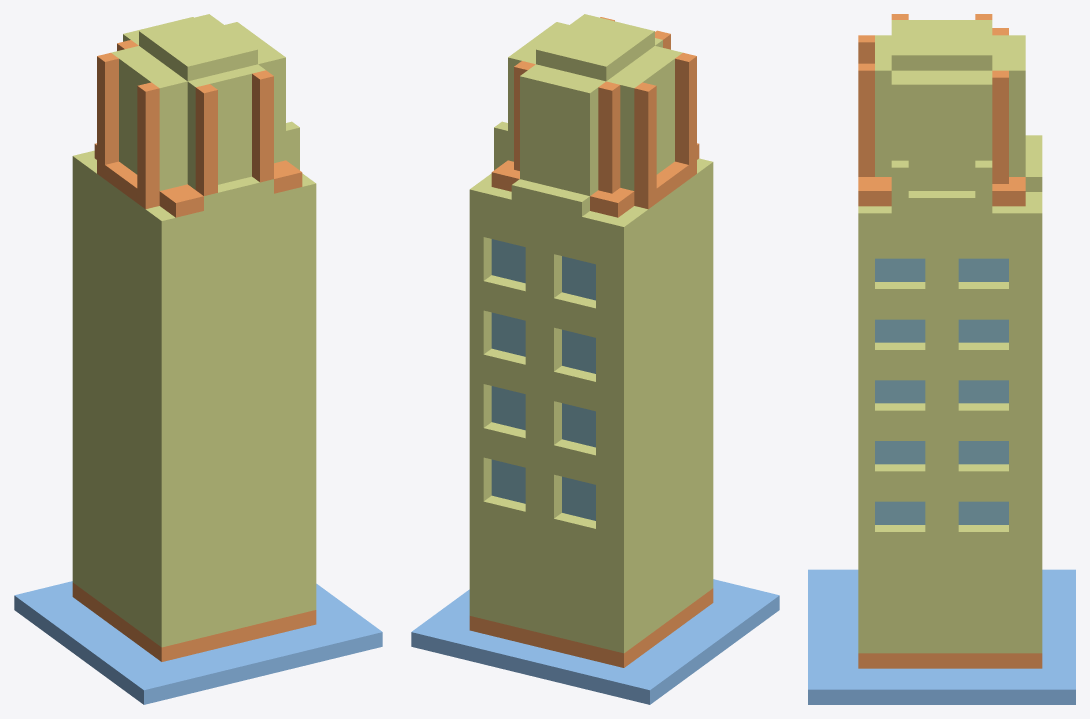
The model's file is building_3.gltf.
3 renders of one model, left to right at view 1: azimuth 30°, elevation 25°; view 2: azimuth 150°, elevation 25°; view 3: azimuth 270°, elevation 25°, orthographic. The views are drawn at different scales.
Parts seen in each view (by area): view 1: Layer.1; view 2: Layer.1; view 3: Layer.1.
Boxes of the visible parts, bbox=[...] form: Layer.1: bbox=[14, 14, 382, 704]; Layer.1: bbox=[411, 14, 779, 704]; Layer.1: bbox=[808, 14, 1075, 704].
Bounding box in the file's own units: 17 × 40 × 16.
1 material, 1 textured.
